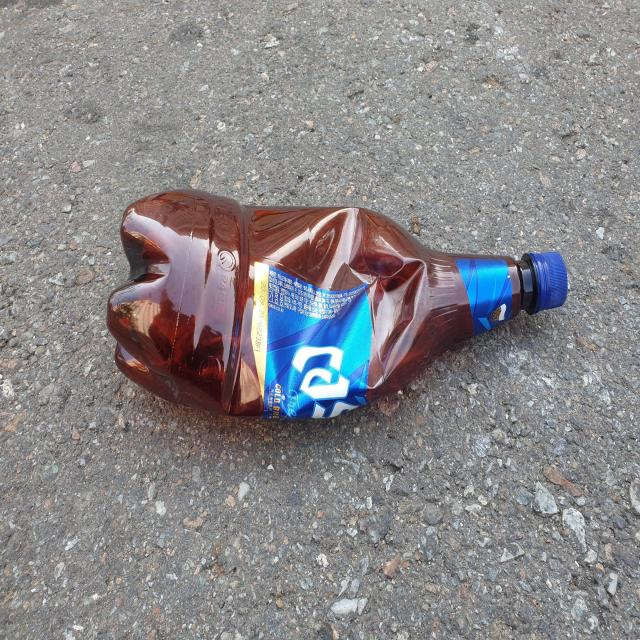plastic: (106, 190, 569, 419)
